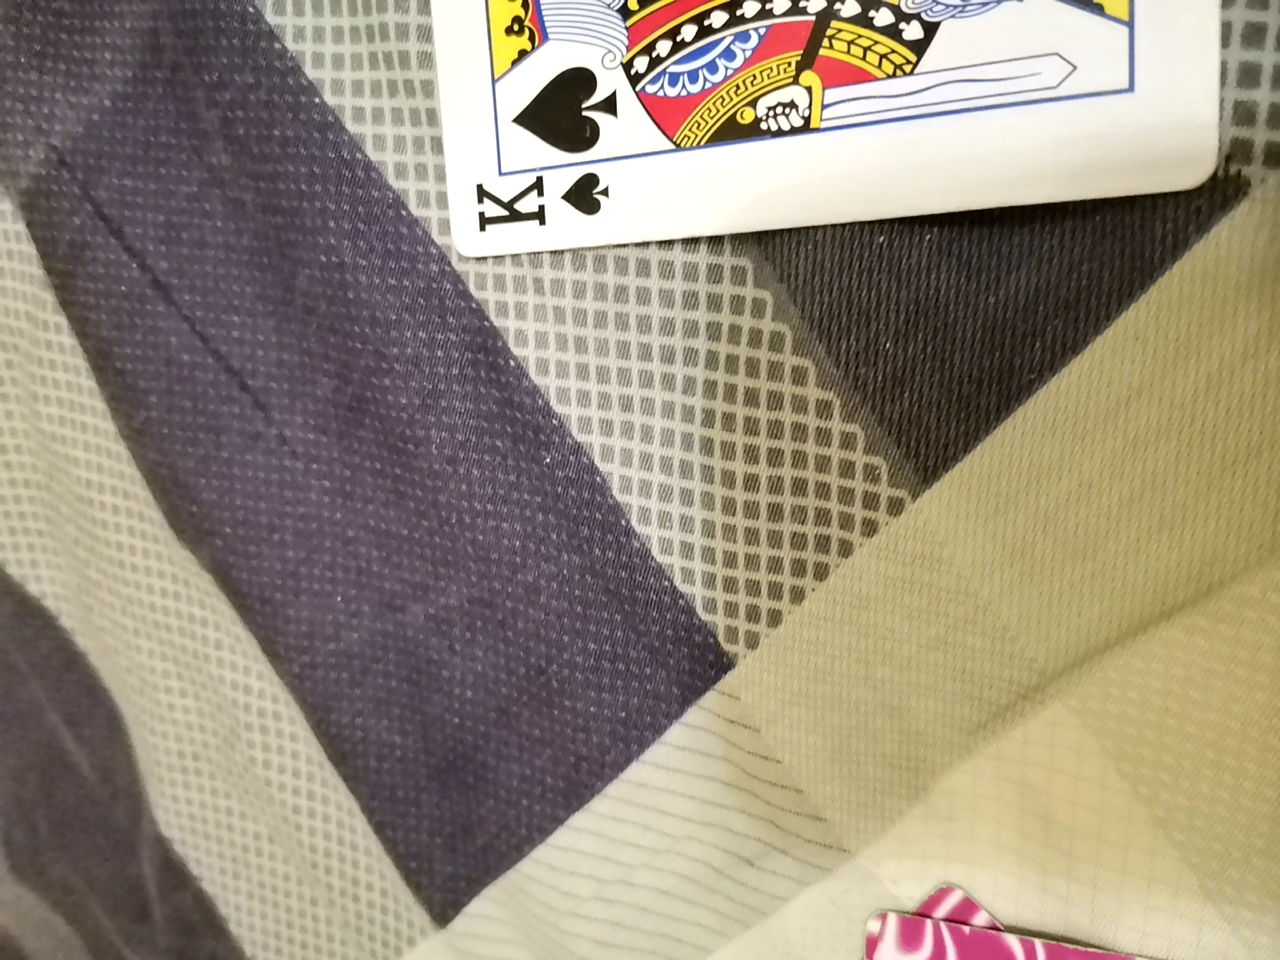ht k: (403, 0, 1185, 260)
